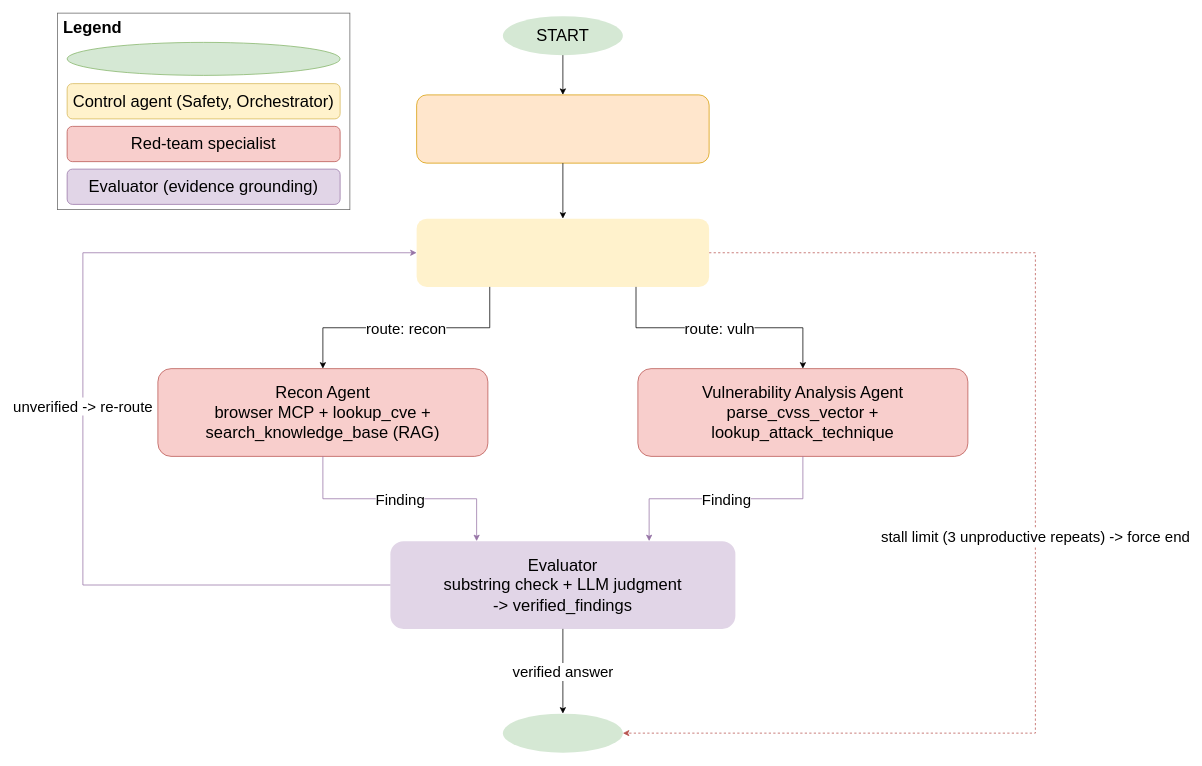
This 1202x766 diagram has some shape labels left out. The shapes that lost their labels are listed below. From the top down, each one's centre as x and y in pixels, then its label:
At (x=203, y=58): "START / END".
At (x=562, y=128): "Safety / Guardrail Agent (deterministic scope check - no LLM)".
At (x=562, y=252): "Orchestrator (LLM router - no tools)".
At (x=562, y=733): "END".
